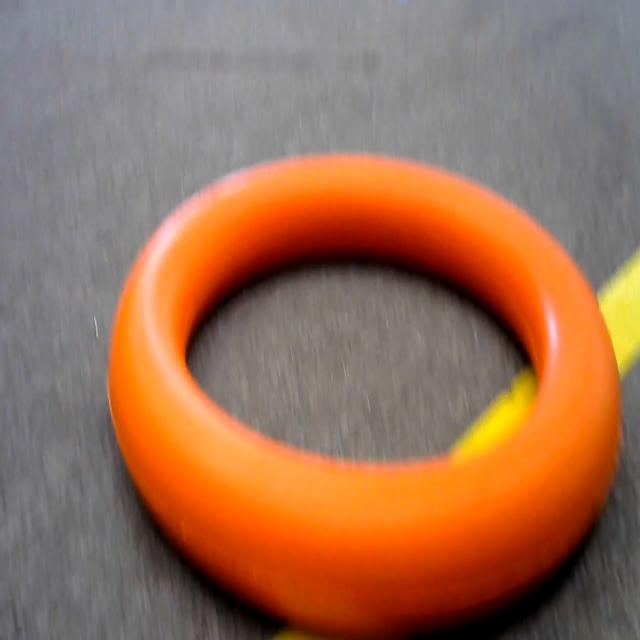note: (97, 134, 630, 640)
